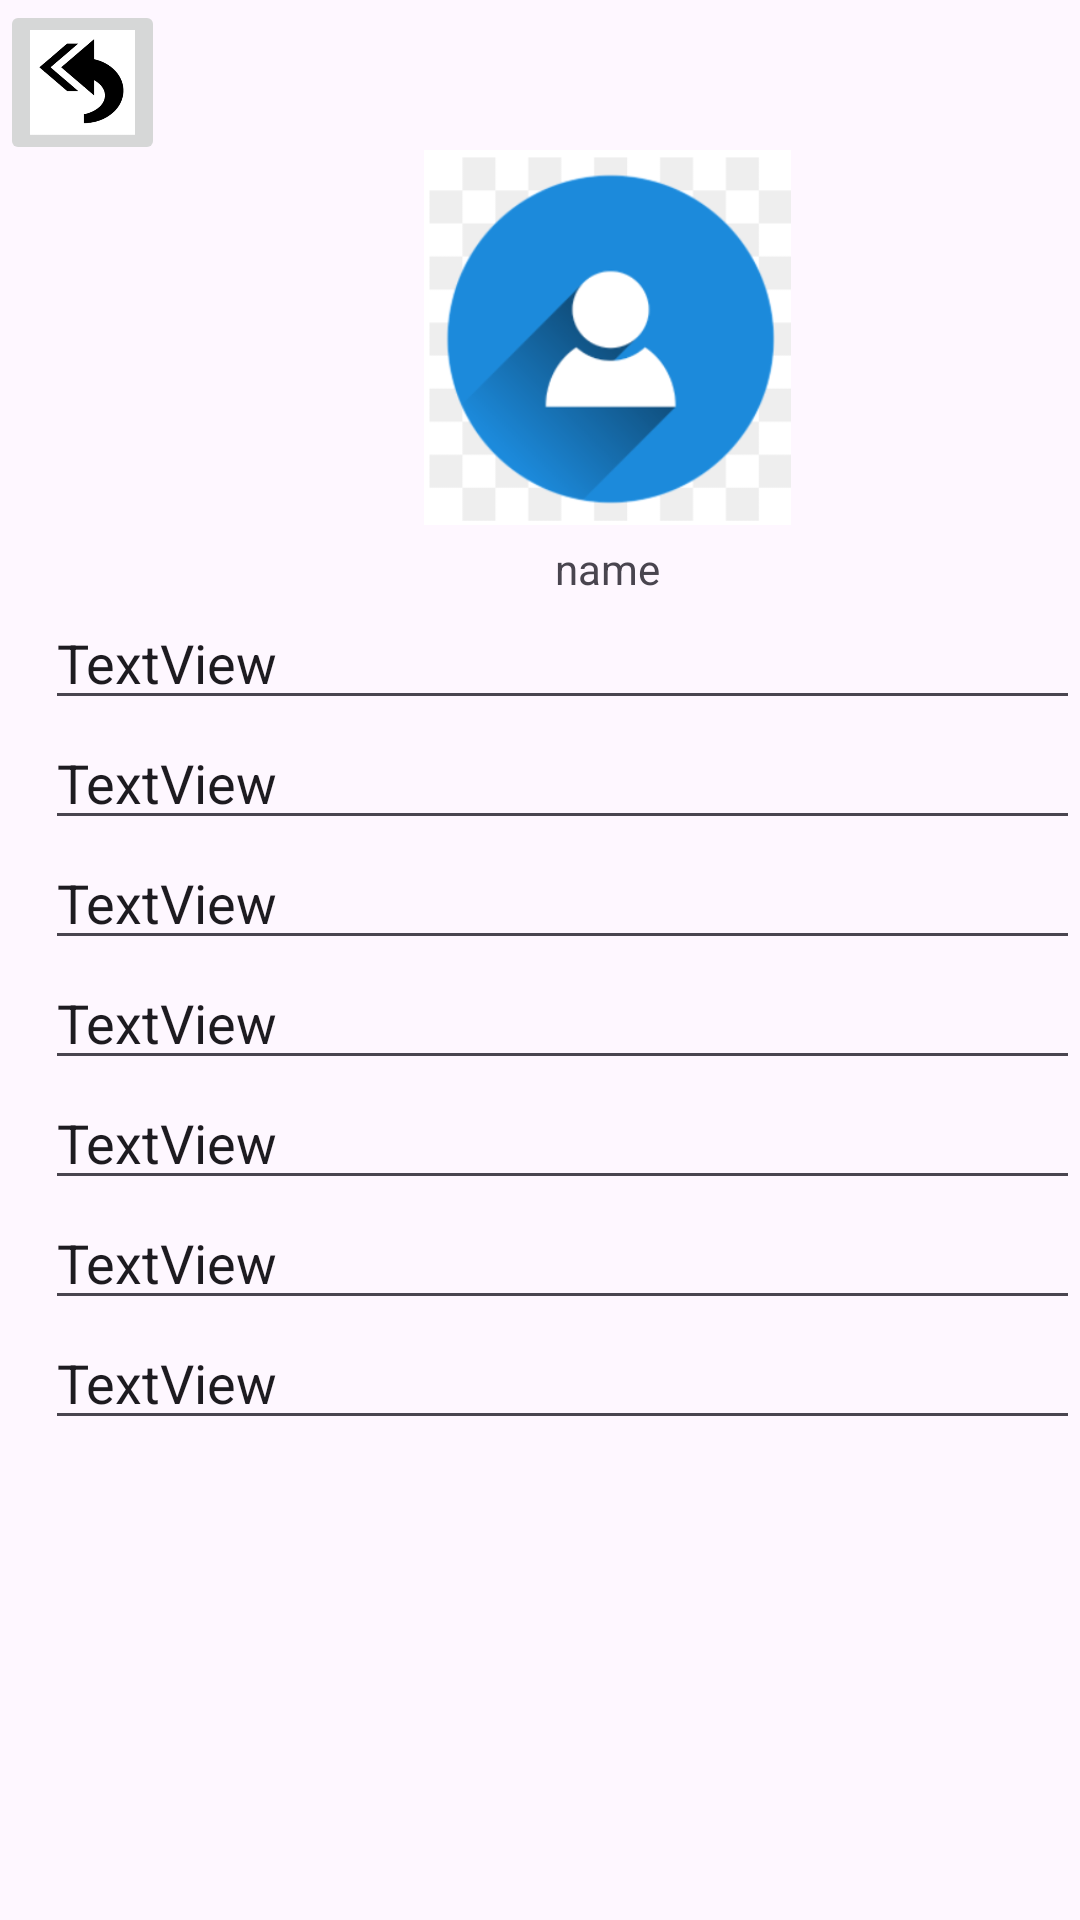

Named icons in this screenshot (1080 x 1920) and their centers, [x,y]:
back: [82,82]
user: [610,339]
